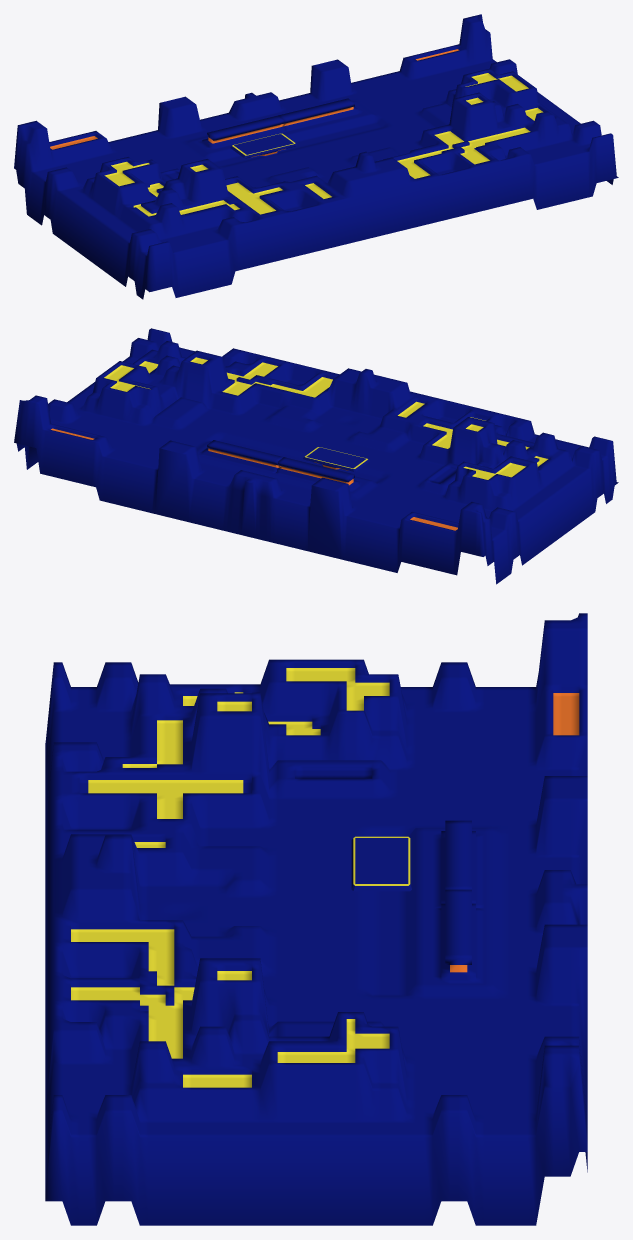
Rendered from Level14B1.fbx.
3 views of the same model, one above another, from view 1: azimuth 30°, elevation 25°; view 2: azimuth 150°, elevation 25°; view 3: azimuth 270°, elevation 25° (orthographic). The views are drawn at different scales.
Parts seen in each view (by area): view 1: Landscape, Cube; view 2: Landscape, Cube; view 3: Landscape, Cube.
Boxes of the visible parts, x1,y1,x2,y2 form: Landscape: [14, 14, 618, 299]; Cube: [230, 133, 297, 158]; Landscape: [14, 328, 618, 584]; Cube: [303, 447, 369, 471]; Landscape: [45, 613, 587, 1225]; Cube: [351, 836, 411, 891].
Size of the model in its own units: 601 by 96.73 by 301.
